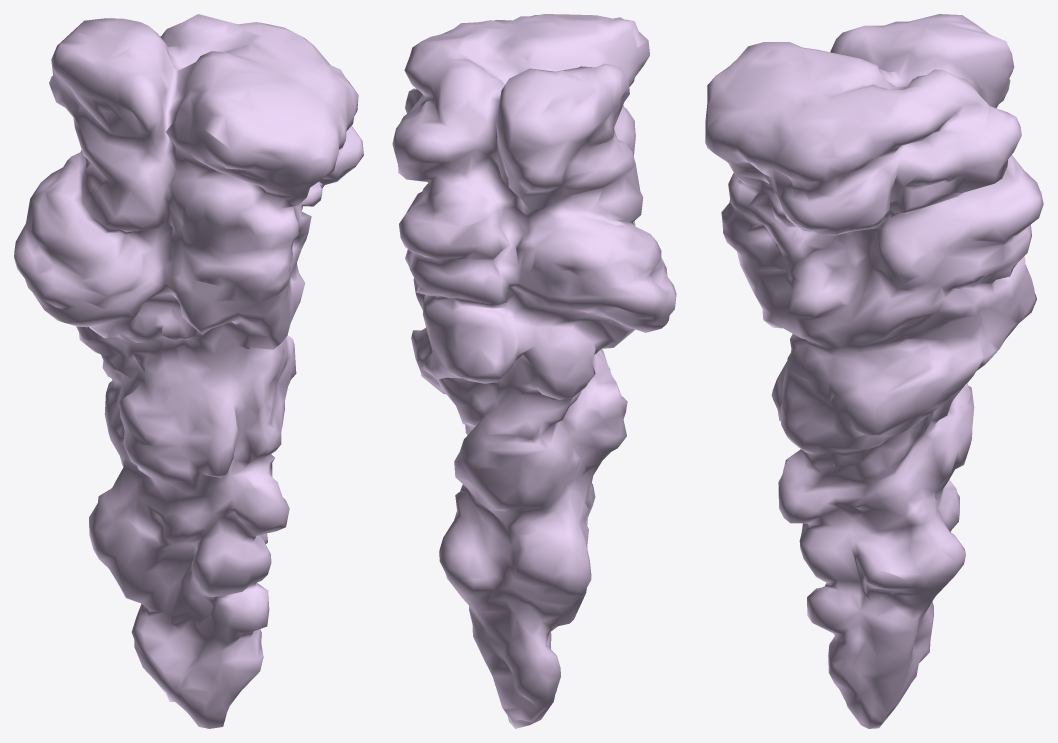
Rendered from lava_wall_05.FBX.
3 renders of one model, left to right at view 1: azimuth 30°, elevation 25°; view 2: azimuth 150°, elevation 25°; view 3: azimuth 270°, elevation 25°, orthographic. The views are drawn at different scales.
Visible parts, largest first — view 1: lava_wall_05_LOD0; view 2: lava_wall_05_LOD0; view 3: lava_wall_05_LOD0.
Boxes of the visible parts, x1=… form: lava_wall_05_LOD0: x1=14, y1=14, x2=363, y2=728; lava_wall_05_LOD0: x1=392, y1=14, x2=676, y2=728; lava_wall_05_LOD0: x1=705, y1=14, x2=1043, y2=728.
Size of what is drawn, in the model's own units: 172 by 387 by 177.
